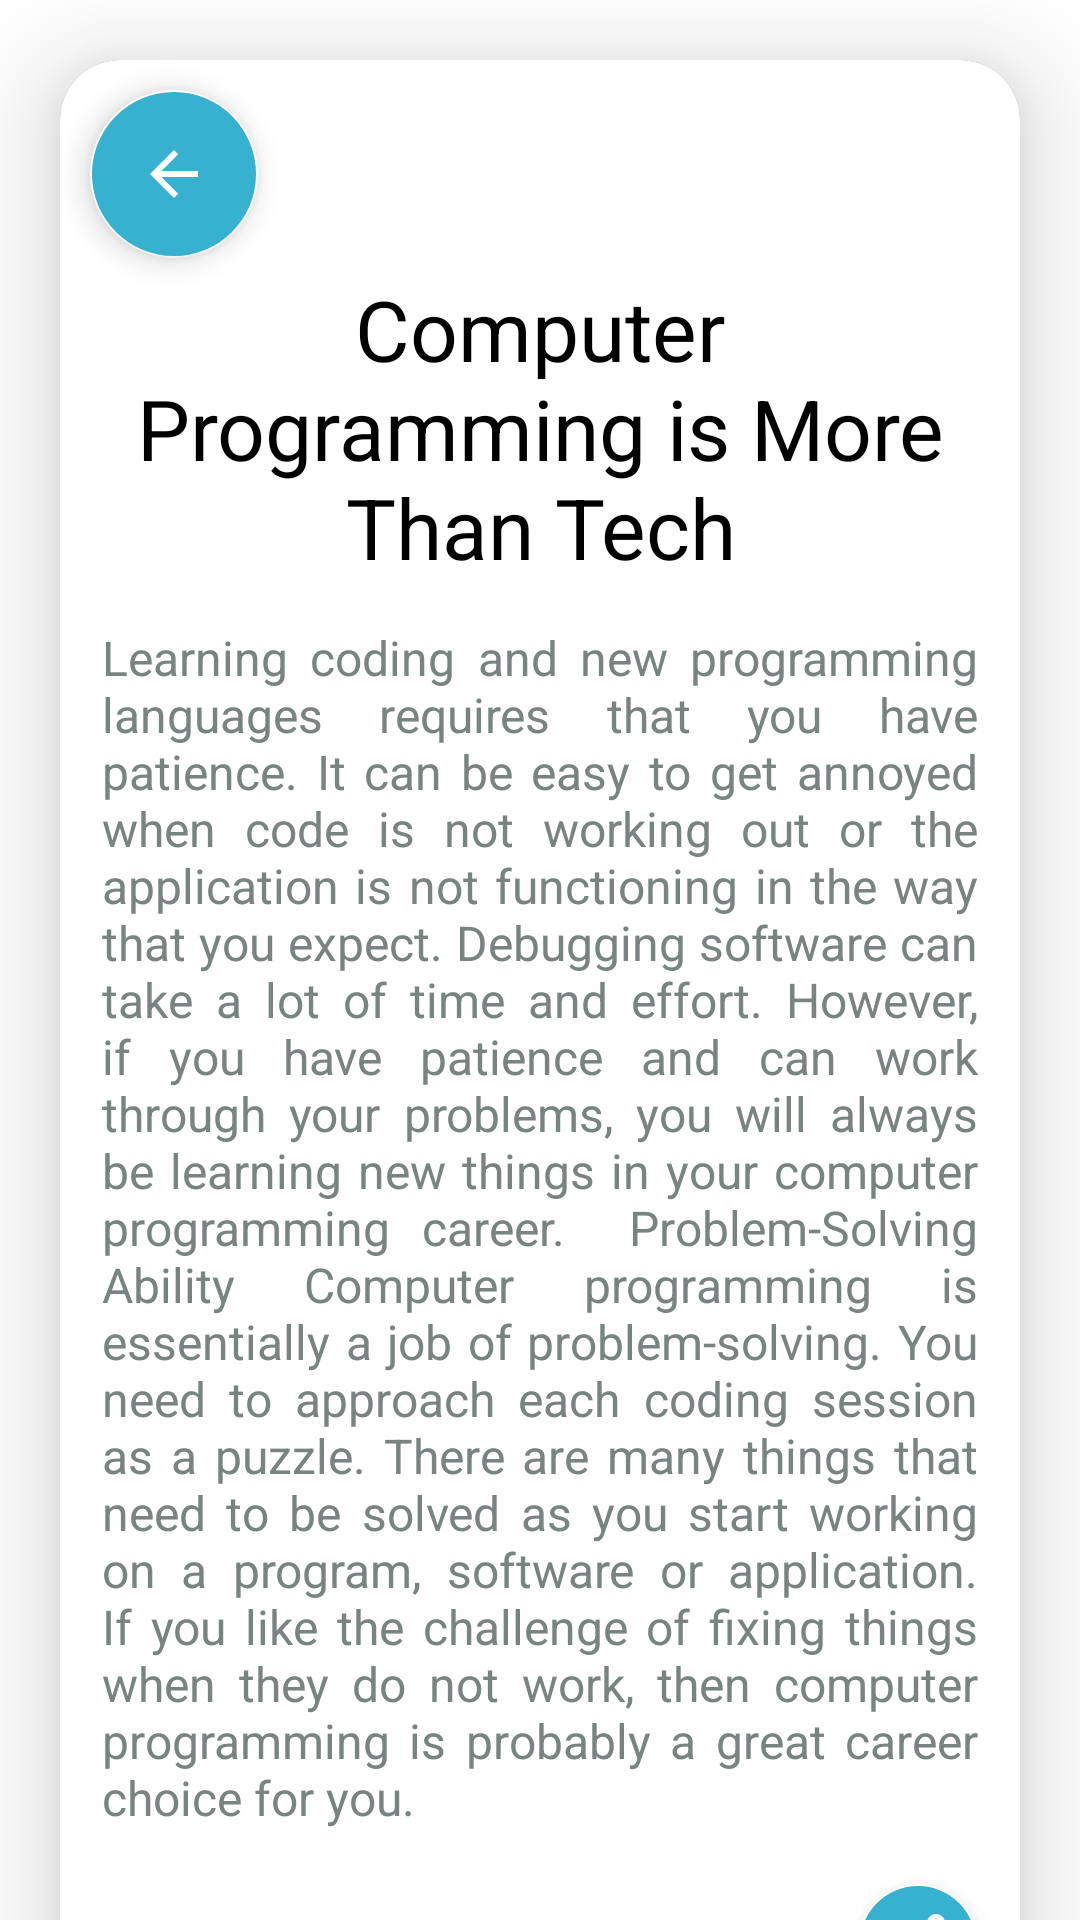

Named icons in this screenshot (1080 × 1920) and their bounding boxes, (x1=x1, y1=y1, x2=x2, y2=y2):
arrow backtoresult: (x1=90, y1=92, x2=256, y2=258)
